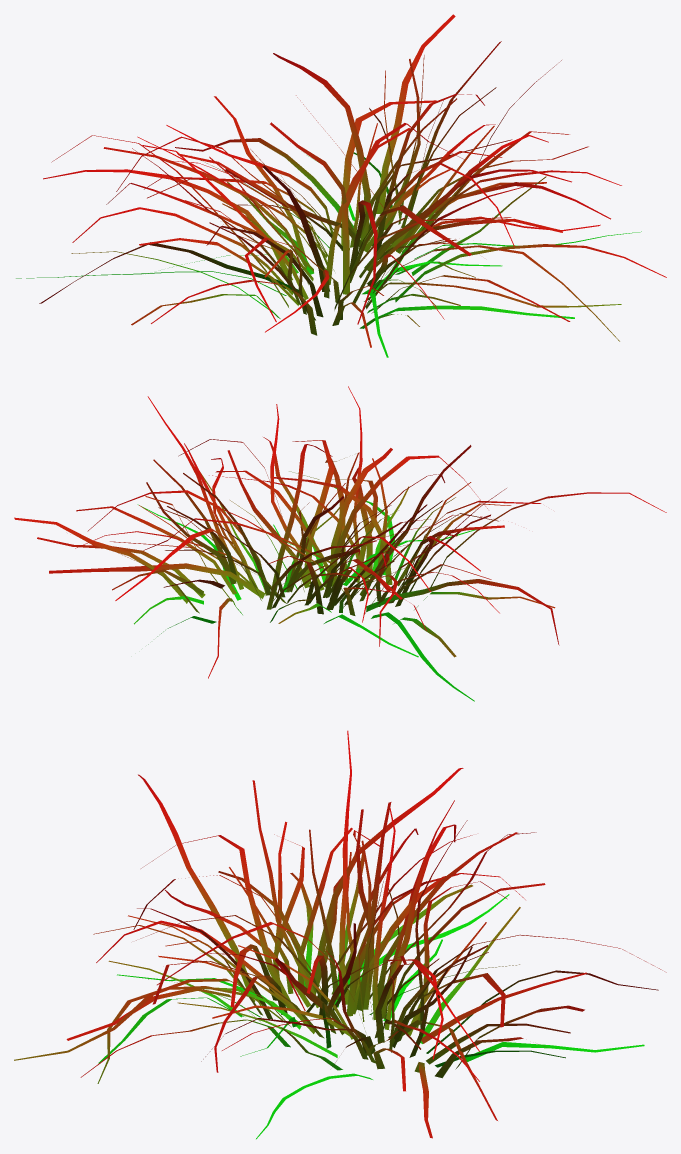
File: Var10_LOD2.fbx
The picture shows the model from 3 angles, top to bottom: view 1: azimuth 30°, elevation 25°; view 2: azimuth 150°, elevation 25°; view 3: azimuth 270°, elevation 25°; orthographic projection. The views are drawn at different scales.
Parts seen in each view (by area): view 1: _sbcu_Var10_LOD2; view 2: _sbcu_Var10_LOD2; view 3: _sbcu_Var10_LOD2.
Boxes of the visible parts, bbox=[...] form: _sbcu_Var10_LOD2: bbox=[16, 14, 666, 357]; _sbcu_Var10_LOD2: bbox=[14, 386, 666, 701]; _sbcu_Var10_LOD2: bbox=[14, 730, 666, 1139].
Bounding box in the file's own units: 27.09 × 8.65 × 25.42.
